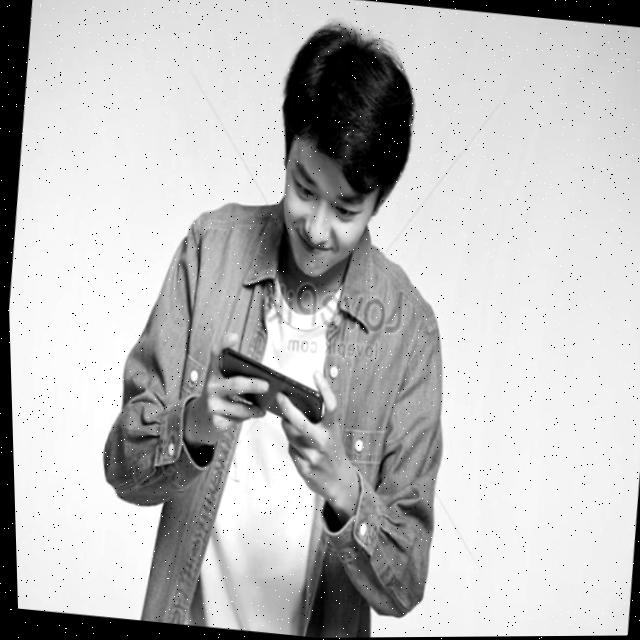phone: (213, 343, 327, 426)
